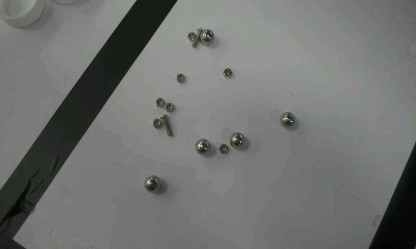ironball: (143, 174, 160, 192), (194, 138, 210, 154), (279, 111, 295, 126), (229, 131, 244, 147), (199, 29, 214, 44)
